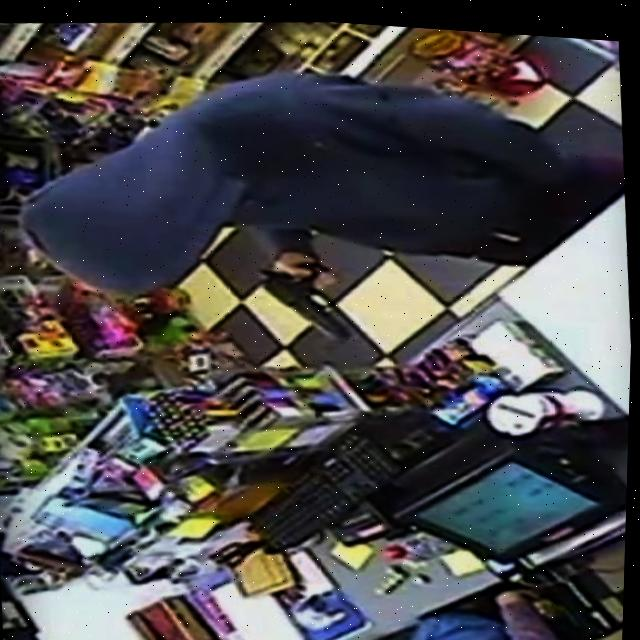pistol: (251, 257, 356, 343)
